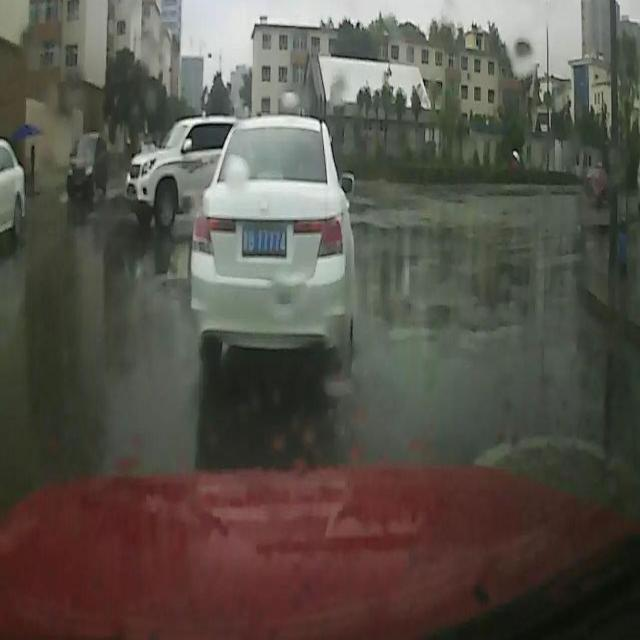car: (190, 113, 356, 364), (124, 113, 238, 232), (66, 128, 108, 202), (1, 136, 24, 244)
